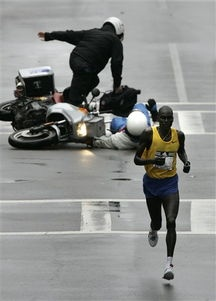falling: (77, 90, 161, 156)
